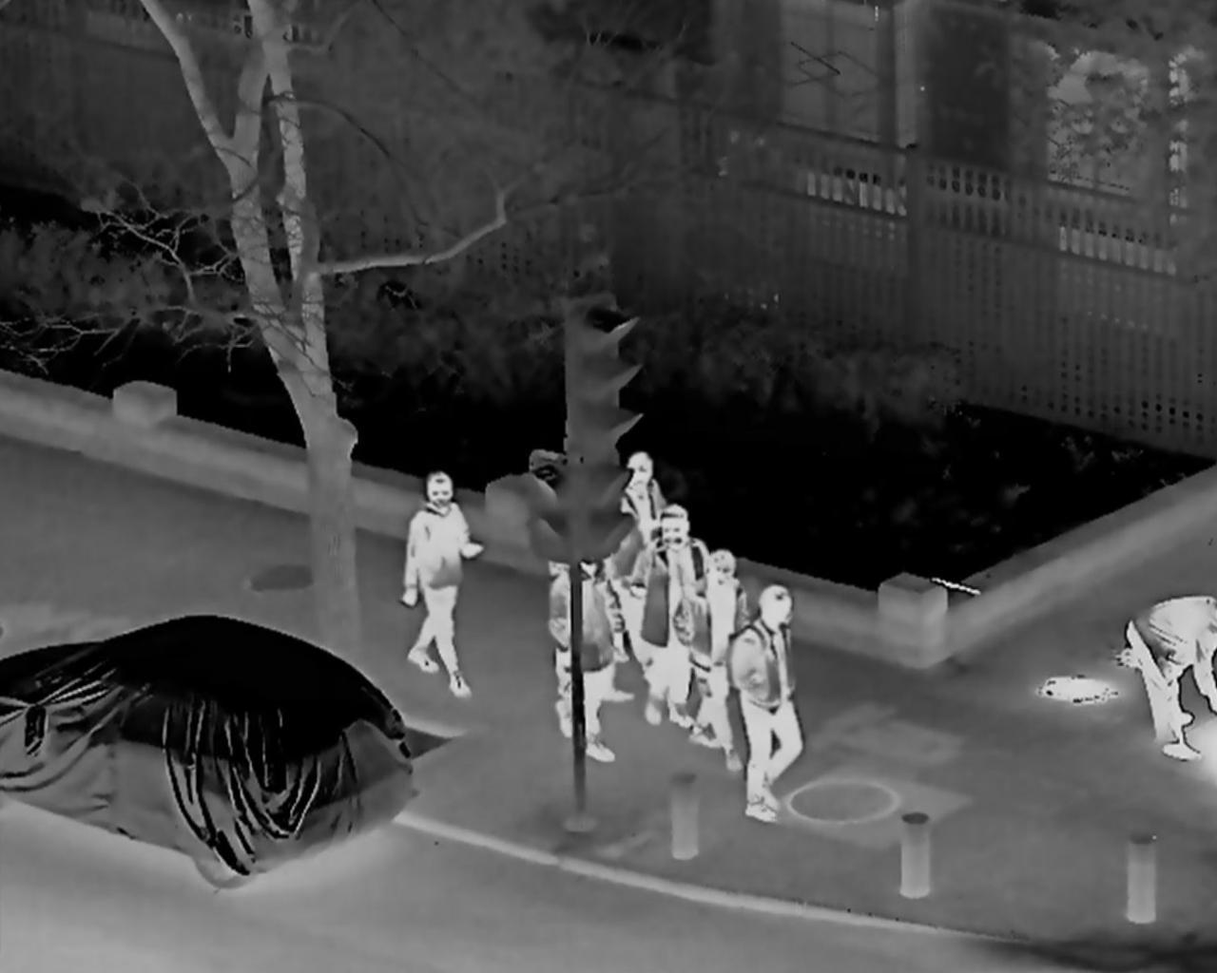person: (402, 468, 487, 696), (601, 456, 684, 675), (737, 583, 812, 825), (545, 536, 622, 766), (675, 549, 752, 773), (1125, 590, 1216, 763), (636, 506, 705, 728)
